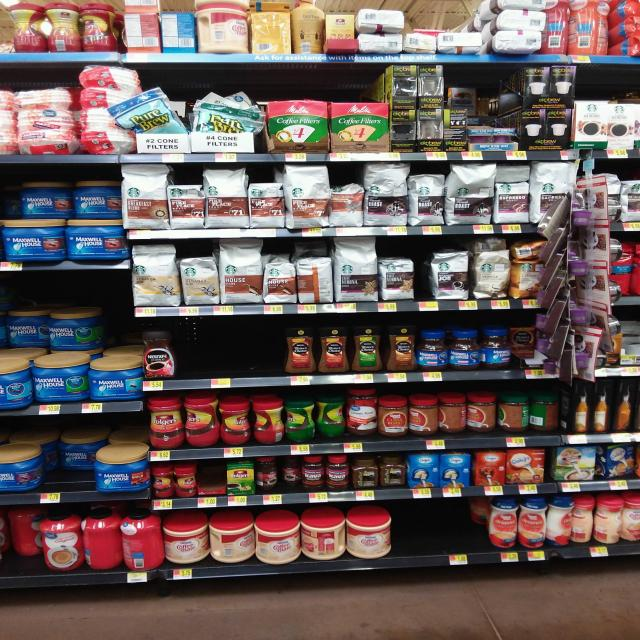void: (245, 316, 280, 388), (435, 502, 468, 571), (210, 316, 240, 391), (398, 505, 431, 571), (466, 496, 492, 568), (185, 320, 207, 392)
